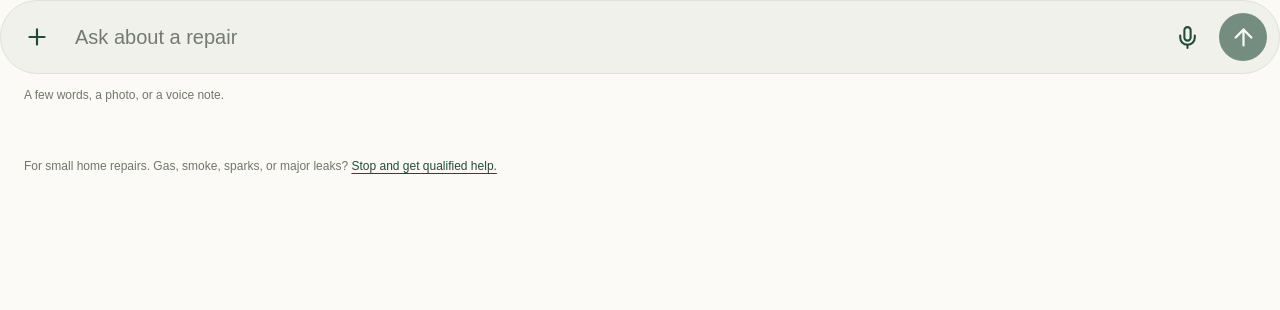
Test case: privacy-first intake › surfaces submission errors instead of displaying a fabricated result
Type "A squeaky hinge" into the text box named "What's happening" at (612, 37), box [75,19,1149,55]
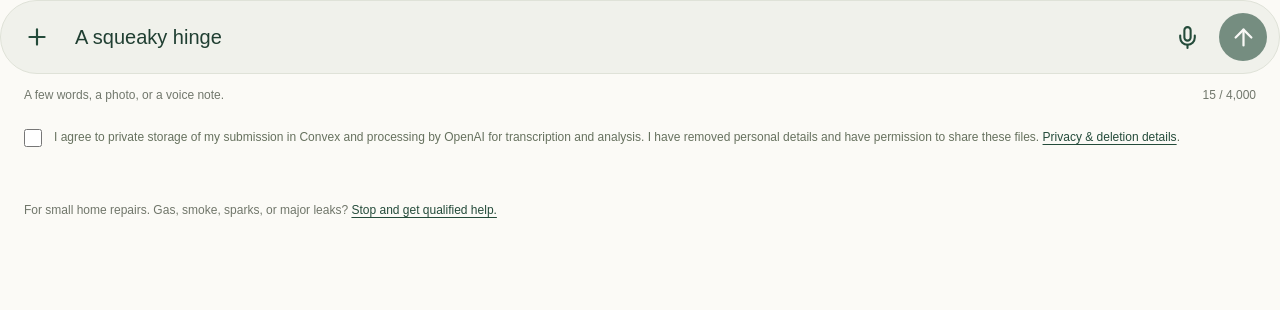
Click the checkbox at (33, 138), box [24,129,42,147]
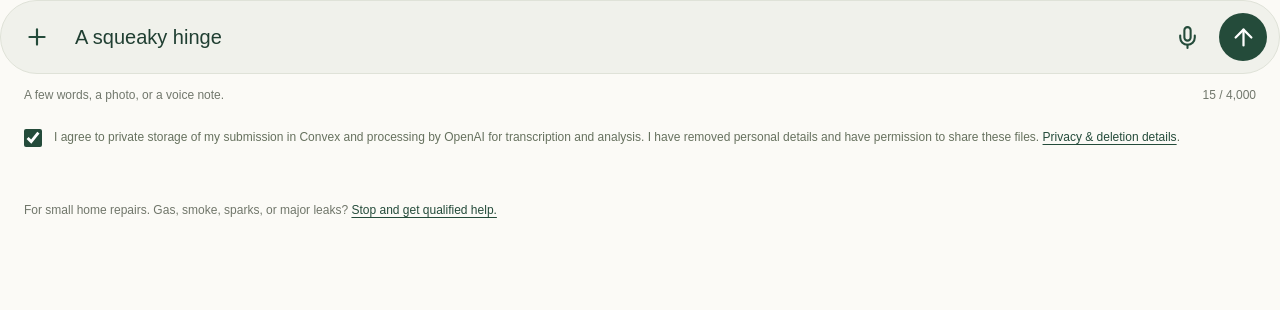
Click the button named "Find my next step" at (1243, 37), box [1219,13,1267,61]
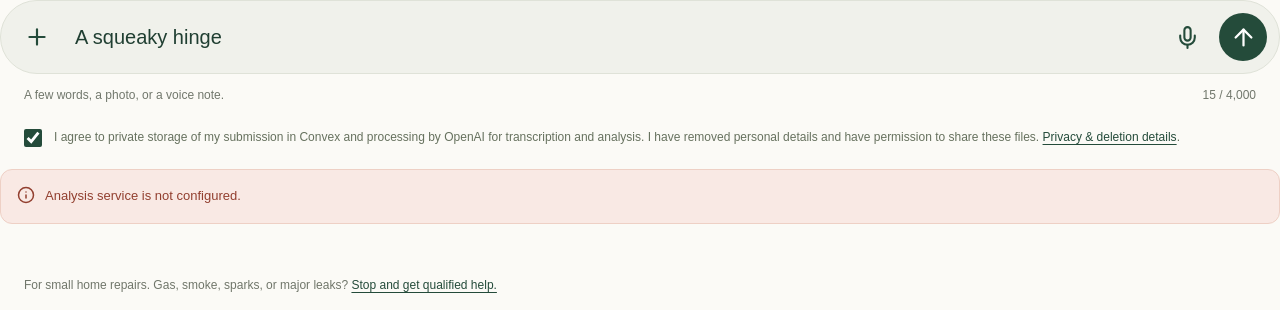
expect the message reads "Analysis service is not configured.": met, box [45,188,241,203]
